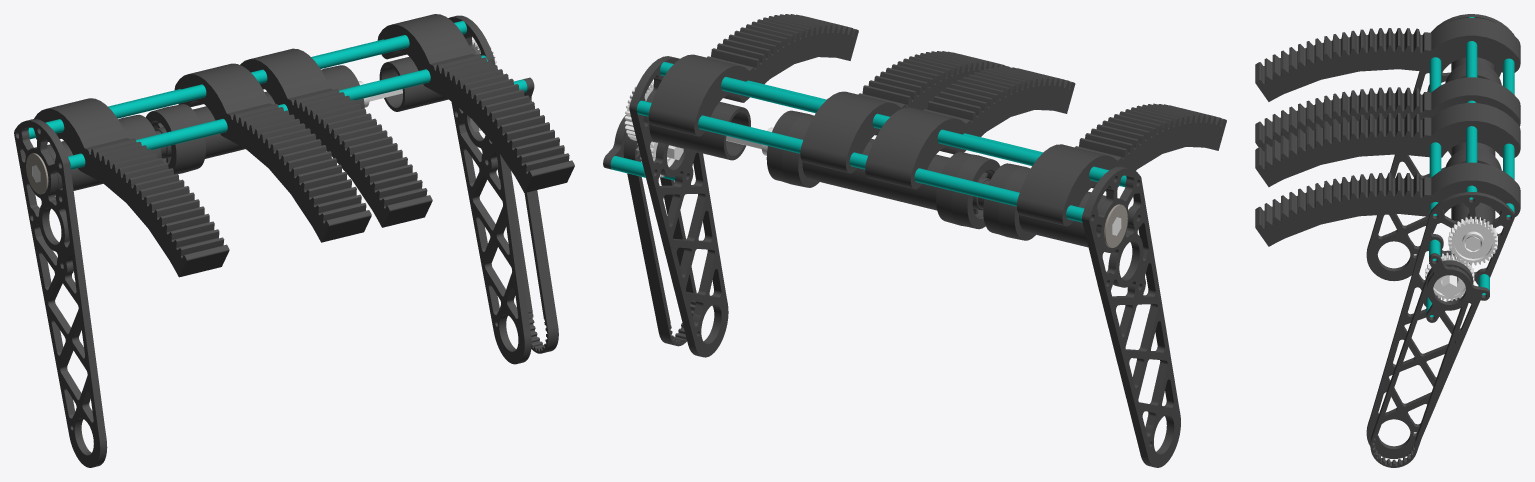
3 renders of one model, left to right at view 1: azimuth 30°, elevation 25°; view 2: azimuth 150°, elevation 25°; view 3: azimuth 270°, elevation 25°, orthographic. The views are drawn at different scales.
Visible parts, largest first — view 1: Component37 - FusionComponent v1(Mirror):1, Spur Gear (175 teeth)(Mirror) (1):1, Spur Gear (175 teeth)(Mirror):1, Spur Gear (175 teeth):1, Spur Gear (175 teeth)(Mirror)(Mirror):1, Component37 - FusionComponent v2 - Component37 - FusionCompo, Component87:1, Component118:1, 2in Tread(Mirror)(Mirror):1, Component67:1, Component77:1, 2in Tread(Mirror):1 (+3 smaller); view 2: Component37 - FusionComponent v1(Mirror):1, Spur Gear (175 teeth)(Mirror) (1):1, Spur Gear (175 teeth)(Mirror):1, Spur Gear (175 teeth):1, Component37 - FusionComponent v2 - Component37 - FusionCompo, Spur Gear (175 teeth)(Mirror)(Mirror):1, Component87:1, Component118:1, Component77:1, Component67:1, 2in Tread(Mirror)(Mirror):1, 2in Tread(Mirror) (1):1 (+3 smaller); view 3: Spur Gear (175 teeth)(Mirror)(Mirror):1, Spur Gear (175 teeth):1, Spur Gear (175 teeth)(Mirror) (1):1, Component37 - FusionComponent v2 - Component37 - FusionCompo, Spur Gear (175 teeth)(Mirror):1, Component37 - FusionComponent v1(Mirror):1, Component118:1, Component87:1, am-3815 32T 20DP 500hex gear v1:4, Component38:1, am-3815 32T 20DP 500hex gear v1:3, 2in Tread(Mirror):1 (+4 smaller).
Boxes of the visible parts, <box> form: Component37 - FusionComponent v1(Mirror):1: <box>14,119,107,467</box>; Spur Gear (175 teeth)(Mirror) (1):1: <box>377,14,574,192</box>; Spur Gear (175 teeth)(Mirror):1: <box>174,63,371,242</box>; Spur Gear (175 teeth):1: <box>34,98,229,277</box>; Spur Gear (175 teeth)(Mirror)(Mirror):1: <box>240,48,432,227</box>; Component37 - FusionComponent v2 - Component37 - FusionCompo: <box>448,15,531,364</box>; Component87:1: <box>28,21,487,169</box>; Component118:1: <box>497,167,558,353</box>; 2in Tread(Mirror)(Mirror):1: <box>145,104,205,174</box>; Component67:1: <box>379,56,448,111</box>; Component77:1: <box>193,91,275,158</box>; 2in Tread(Mirror):1: <box>321,65,364,108</box>; Component37 - FusionComponent v1(Mirror):1: <box>1082,166,1180,467</box>; Spur Gear (175 teeth)(Mirror) (1):1: <box>648,14,858,136</box>; Spur Gear (175 teeth)(Mirror):1: <box>865,66,1075,189</box>; Spur Gear (175 teeth):1: <box>1016,103,1226,226</box>; Component37 - FusionComponent v2 - Component37 - FusionCompo: <box>629,56,728,357</box>; Spur Gear (175 teeth)(Mirror)(Mirror):1: <box>800,51,1009,173</box>; Component87:1: <box>636,62,1126,222</box>; Component118:1: <box>623,133,696,346</box>; Component77:1: <box>802,138,949,210</box>; Component67:1: <box>649,102,750,160</box>; 2in Tread(Mirror)(Mirror):1: <box>936,152,1000,229</box>; 2in Tread(Mirror) (1):1: <box>983,163,1035,240</box>; Spur Gear (175 teeth)(Mirror)(Mirror):1: <box>1255,103,1520,186</box>; Spur Gear (175 teeth):1: <box>1255,18,1520,101</box>; Spur Gear (175 teeth)(Mirror) (1):1: <box>1255,162,1520,246</box>; Component37 - FusionComponent v2 - Component37 - FusionCompo: <box>1366,192,1514,458</box>; Spur Gear (175 teeth)(Mirror):1: <box>1255,77,1520,151</box>; Component37 - FusionComponent v1(Mirror):1: <box>1366,14,1513,281</box>; Component118:1: <box>1370,260,1473,467</box>; Component87:1: <box>1429,17,1514,217</box>; am-3815 32T 20DP 500hex gear v1:4: <box>1448,216,1497,265</box>; Component38:1: <box>1426,253,1489,322</box>; am-3815 32T 20DP 500hex gear v1:3: <box>1425,252,1474,301</box>; 2in Tread(Mirror):1: <box>1445,148,1501,169</box>.
Size of the model in its own units: 0.408 by 0.2582 by 0.2301.
